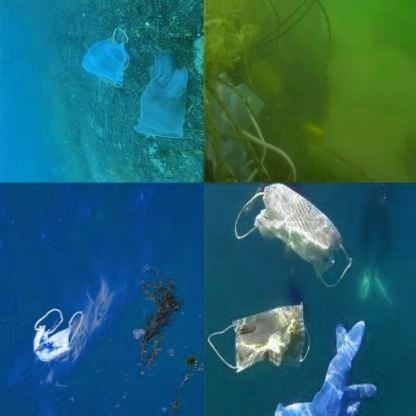Mask: (204, 57, 304, 182), (236, 183, 353, 289), (204, 302, 312, 378), (28, 305, 83, 362), (80, 30, 130, 90)
glove: (276, 319, 374, 415), (132, 48, 190, 140)
